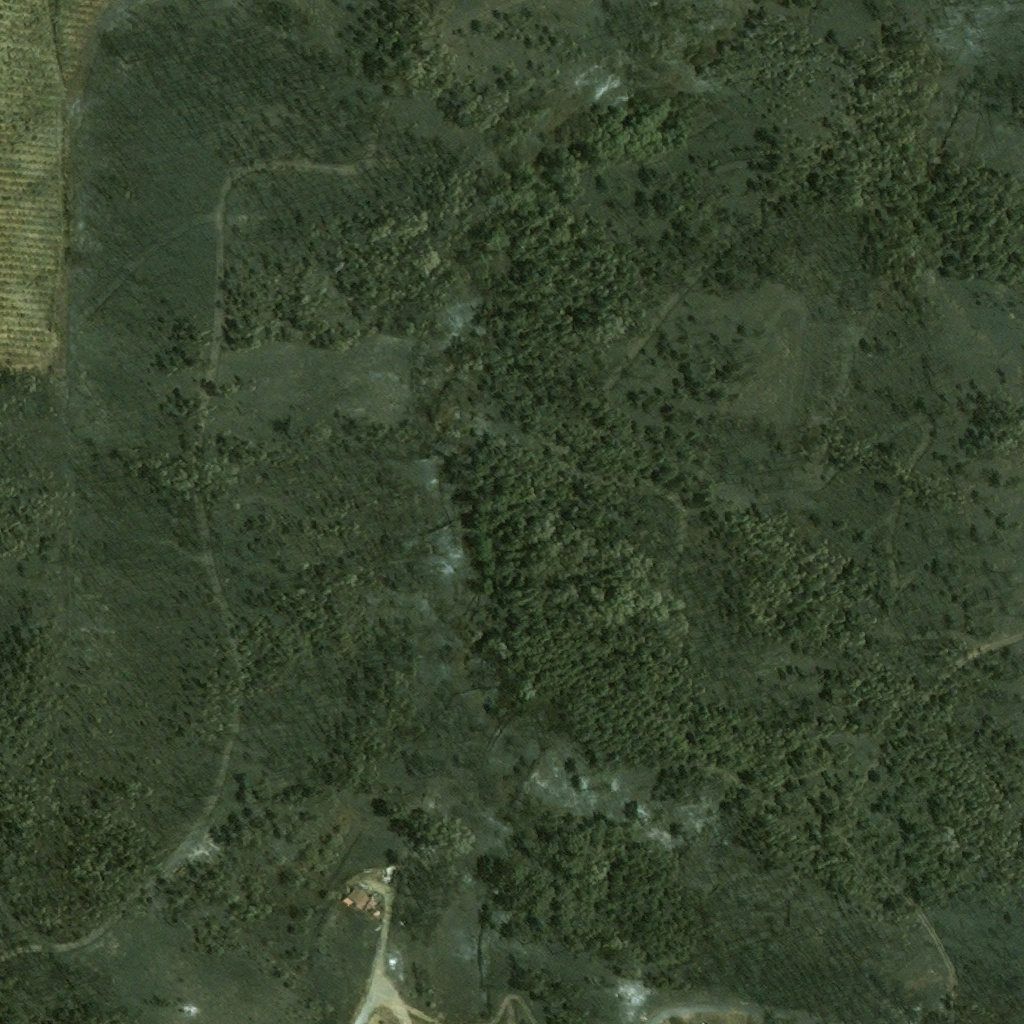0 no-damage: (340, 887, 362, 907), (354, 894, 370, 911)
3 destroyed: (362, 898, 381, 919), (384, 864, 398, 884), (371, 890, 384, 902)
